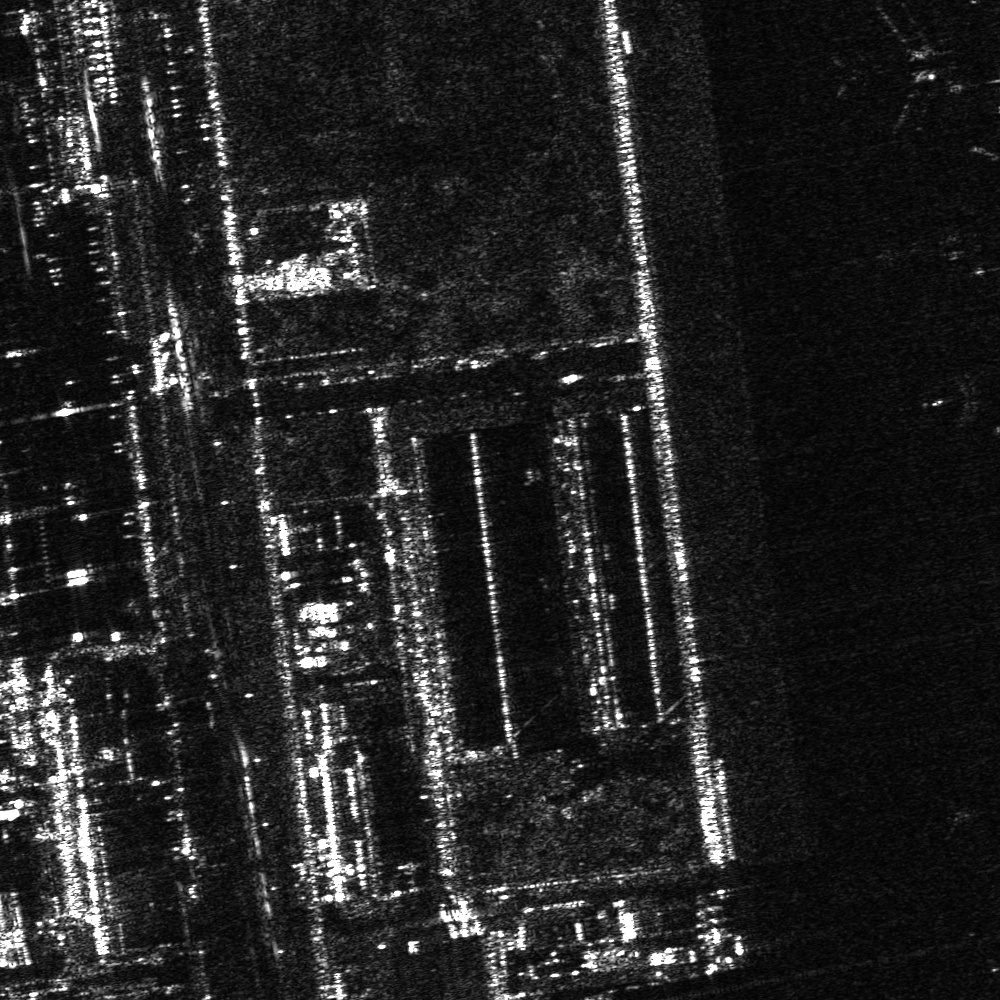Boeing787: (919, 363, 994, 431)
